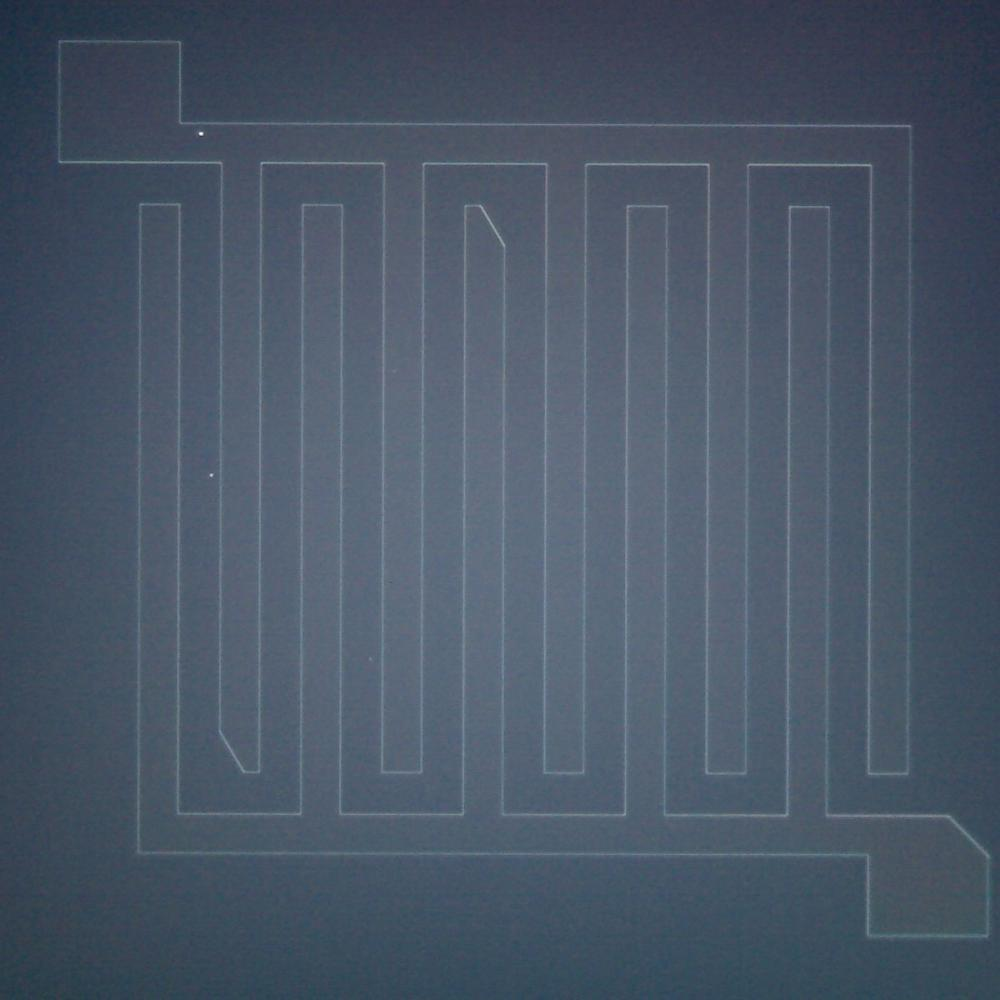dot: (198, 459, 224, 488), (192, 126, 217, 148)
edge circuit: (208, 710, 270, 781), (934, 800, 998, 866), (456, 190, 514, 257)
